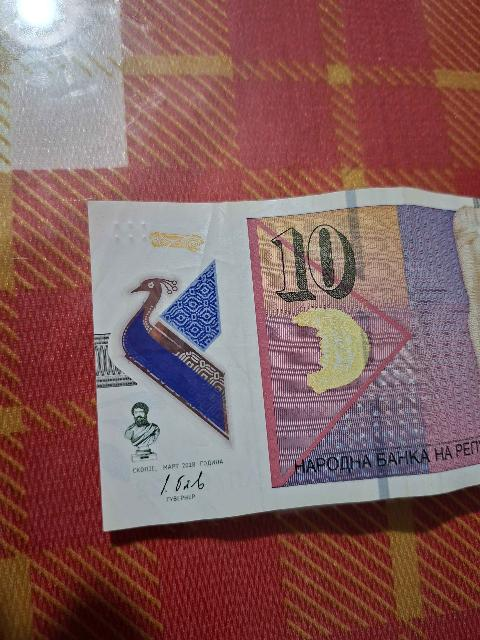10_note: (83, 190, 479, 528)
